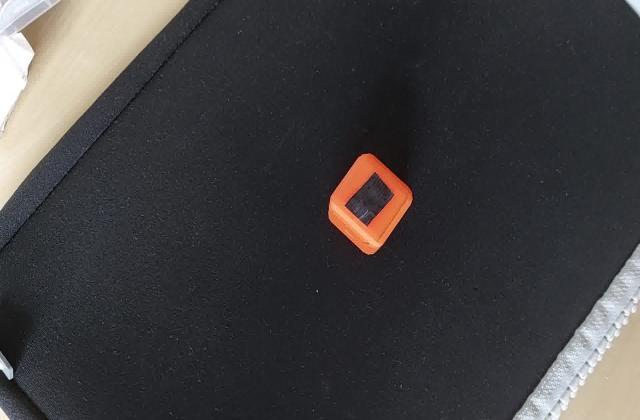black: (338, 172, 400, 226)
sticker: (325, 152, 414, 259)
